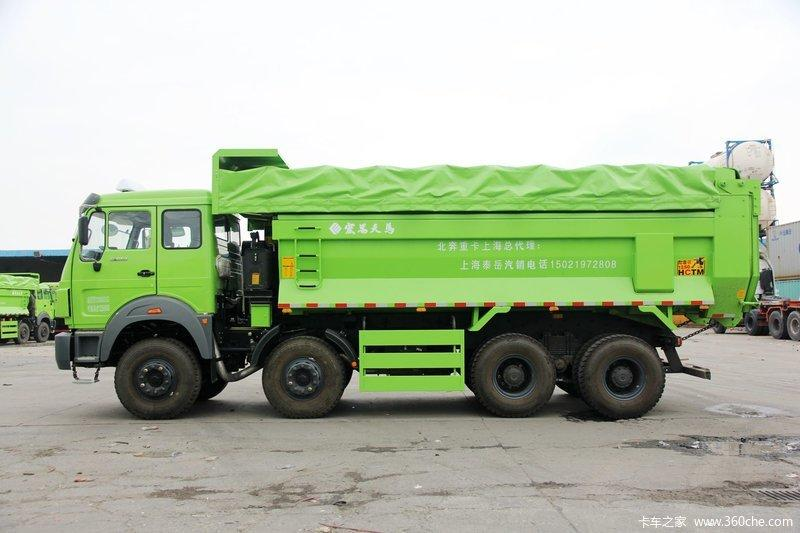truck: (33, 144, 768, 422)
